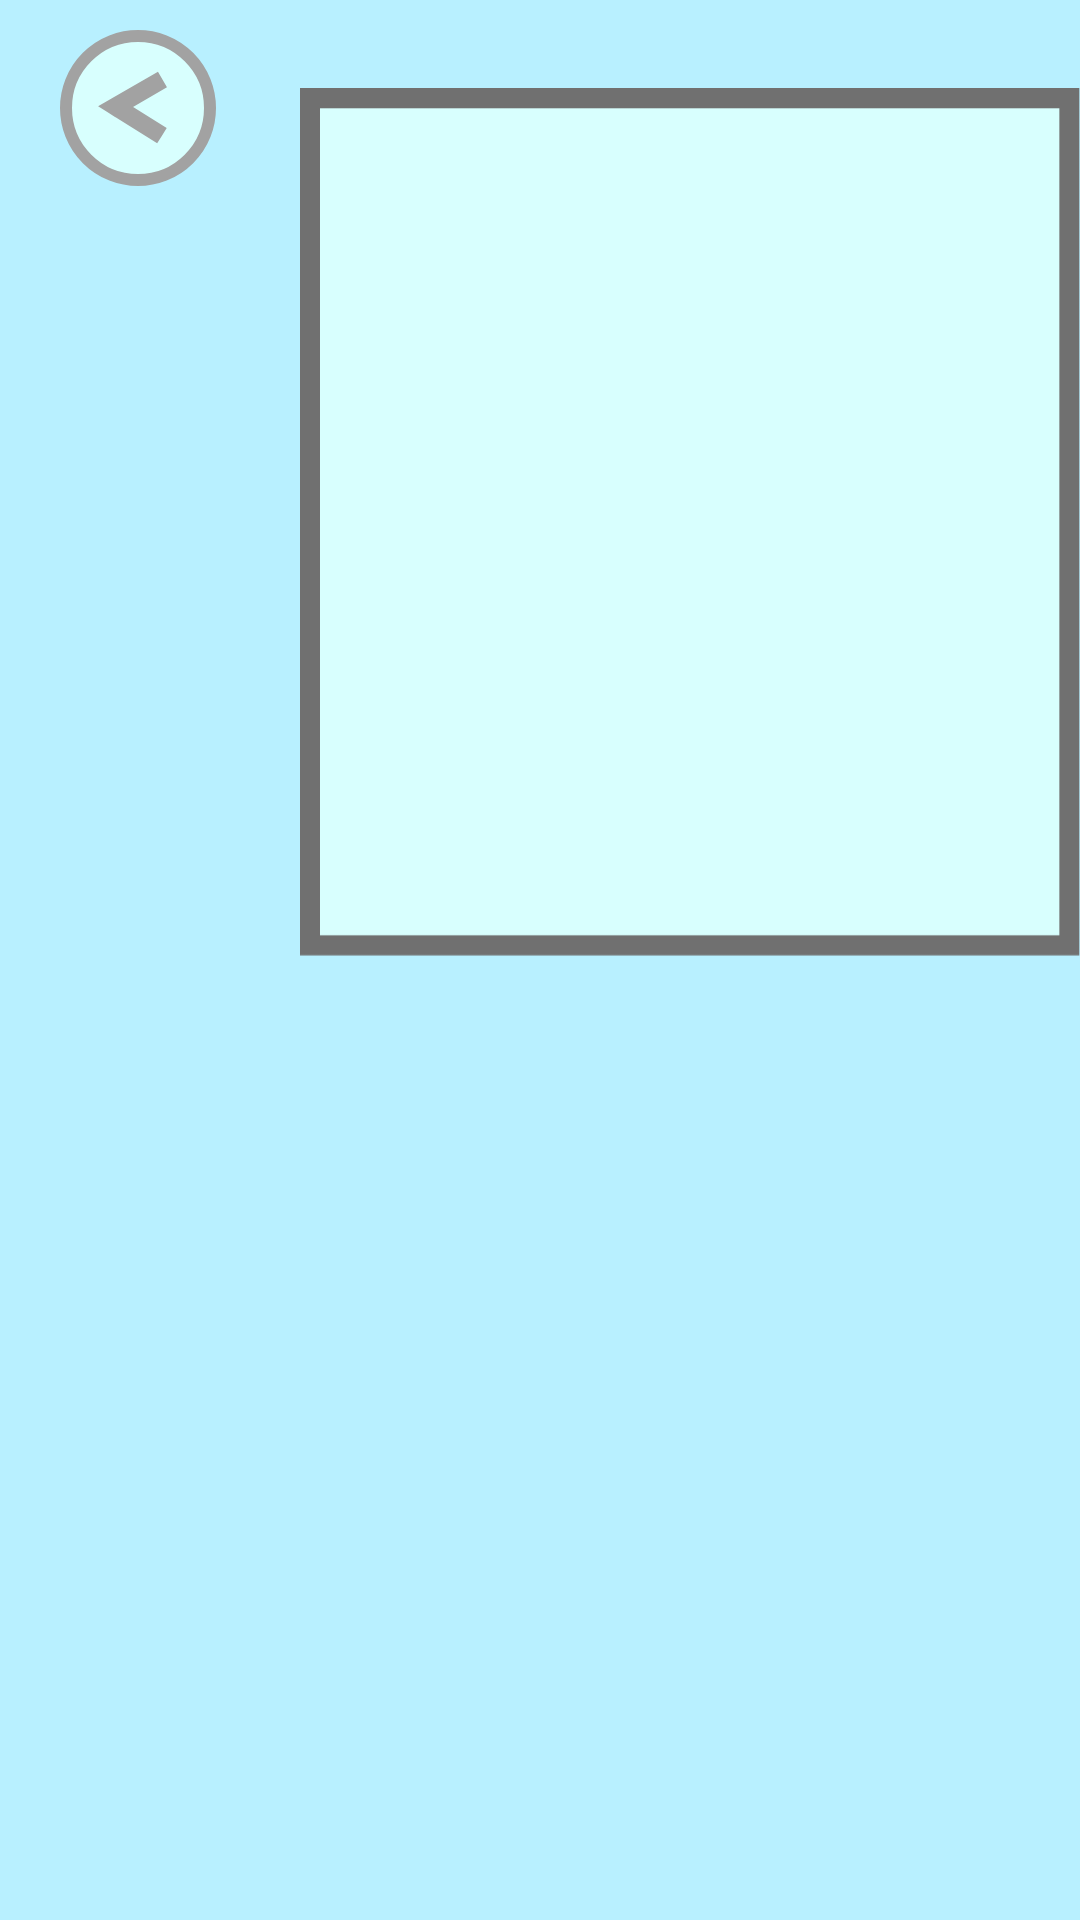

Point at icon controls on the screen. Image size 1080px×1920px, points as point (x, y).
voltar: point (138, 108)
